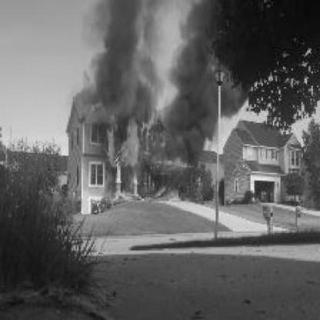Fire: (88, 101, 200, 199)
Smoke: (88, 1, 150, 111)
